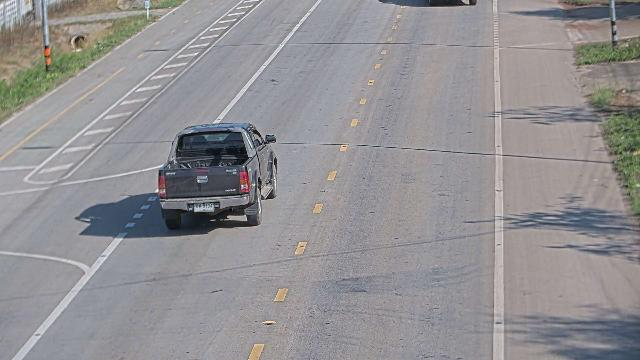pickup-truck: (156, 121, 278, 230)
